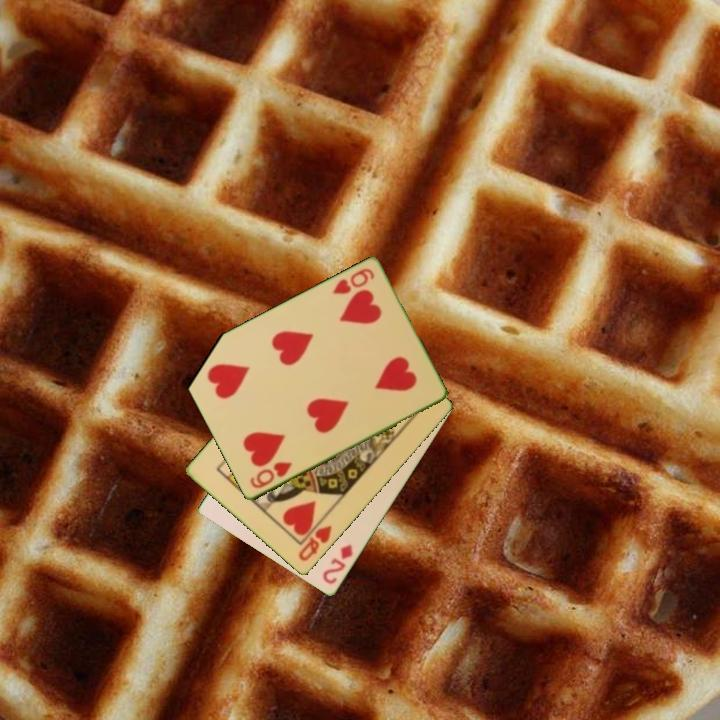2d: (319, 541, 356, 588)
6h: (246, 458, 295, 492), (329, 265, 377, 298)
Qh: (295, 522, 335, 564)
